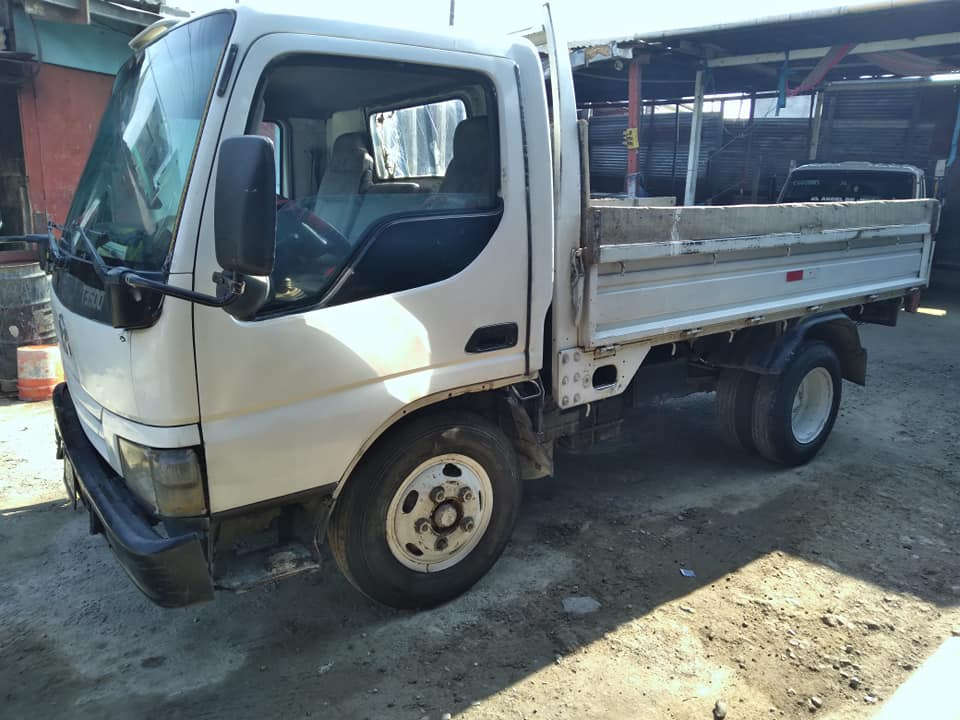camion: (50, 6, 945, 593)
